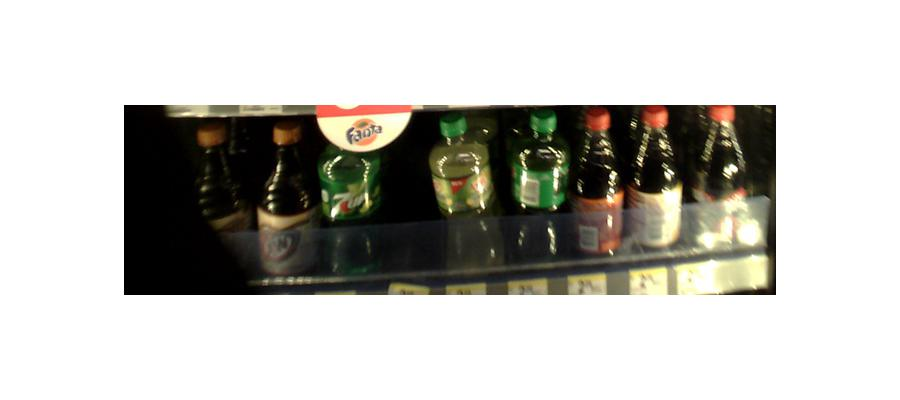bottle: (316, 103, 398, 275), (431, 111, 500, 272), (504, 109, 571, 263), (259, 114, 315, 281), (691, 102, 749, 259), (625, 107, 683, 256), (571, 108, 624, 259), (193, 118, 244, 243)
